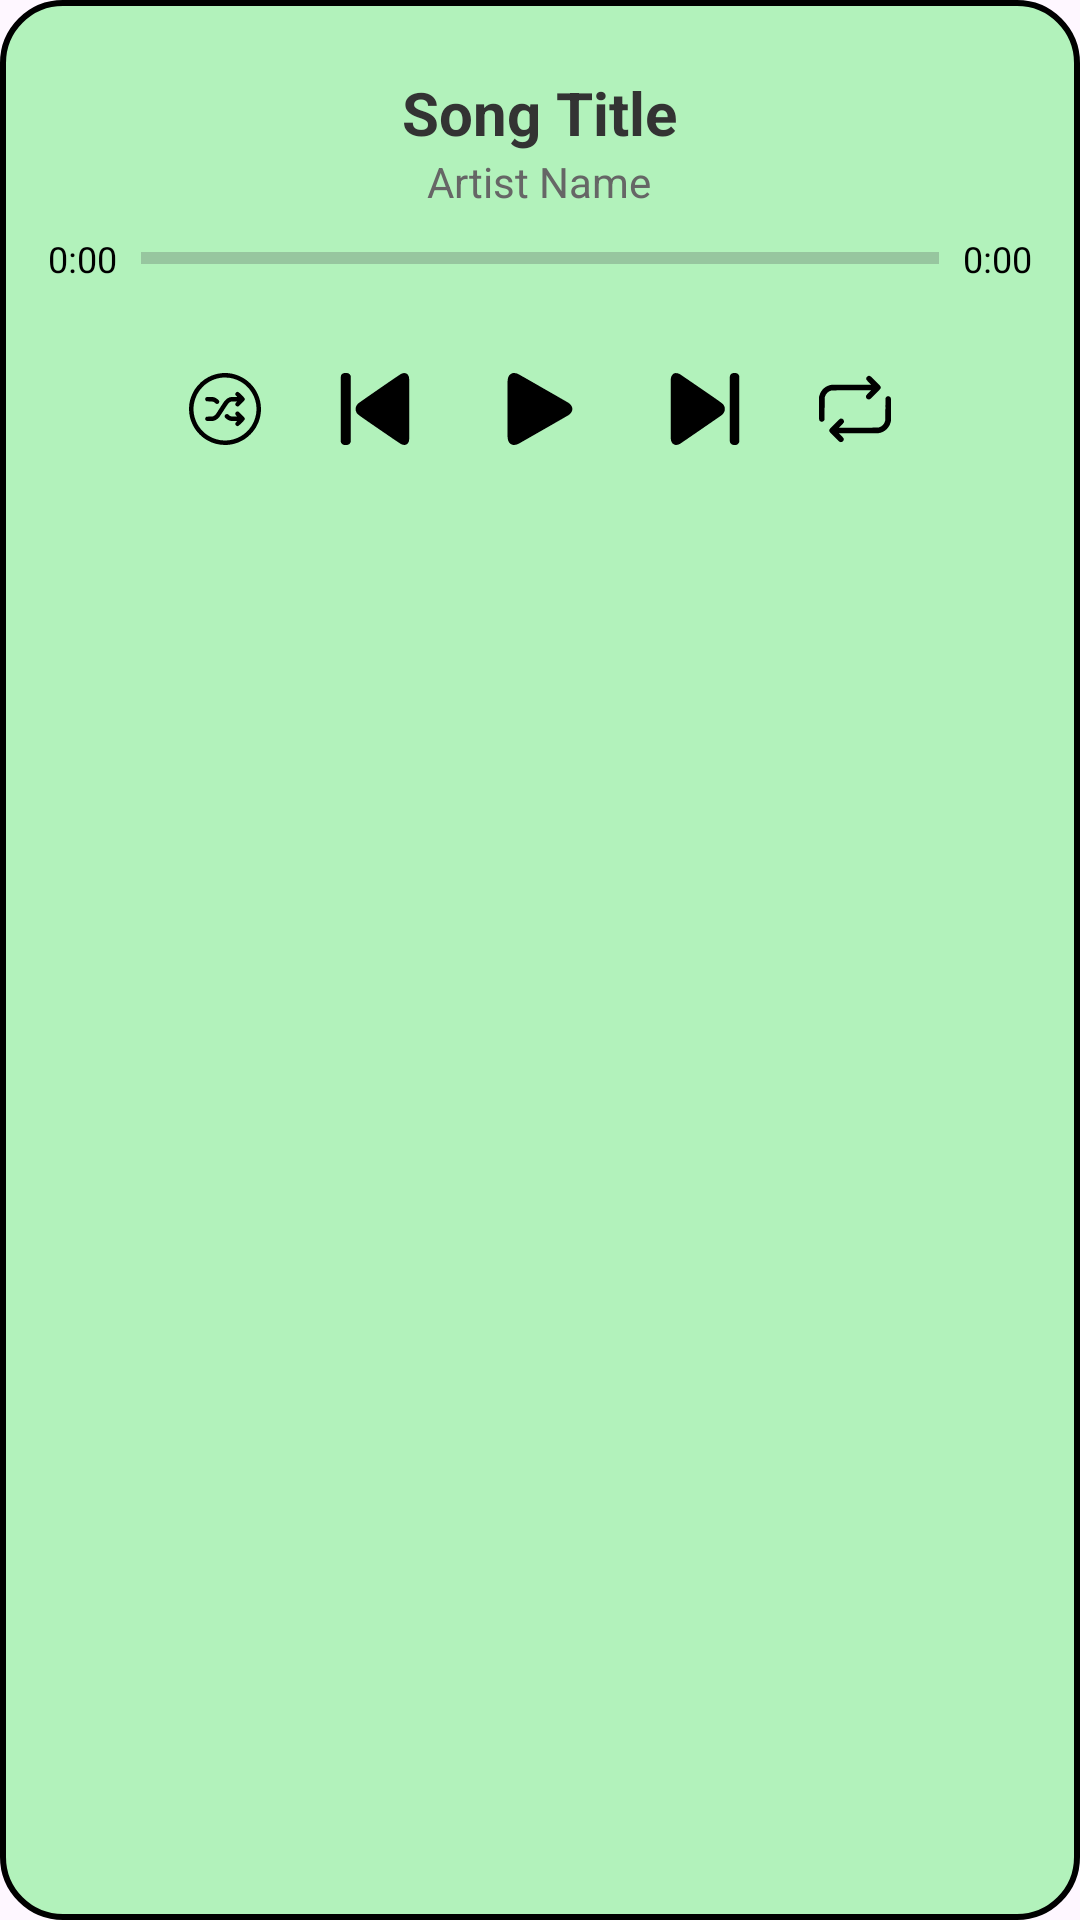

Icons on this 1080w x 1920h Android screen, each with the point to tap as (x=x, y=y):
next: (x=705, y=409)
play: (x=540, y=409)
previous: (x=375, y=409)
repeat: (x=855, y=408)
shuffle: (x=225, y=409)
